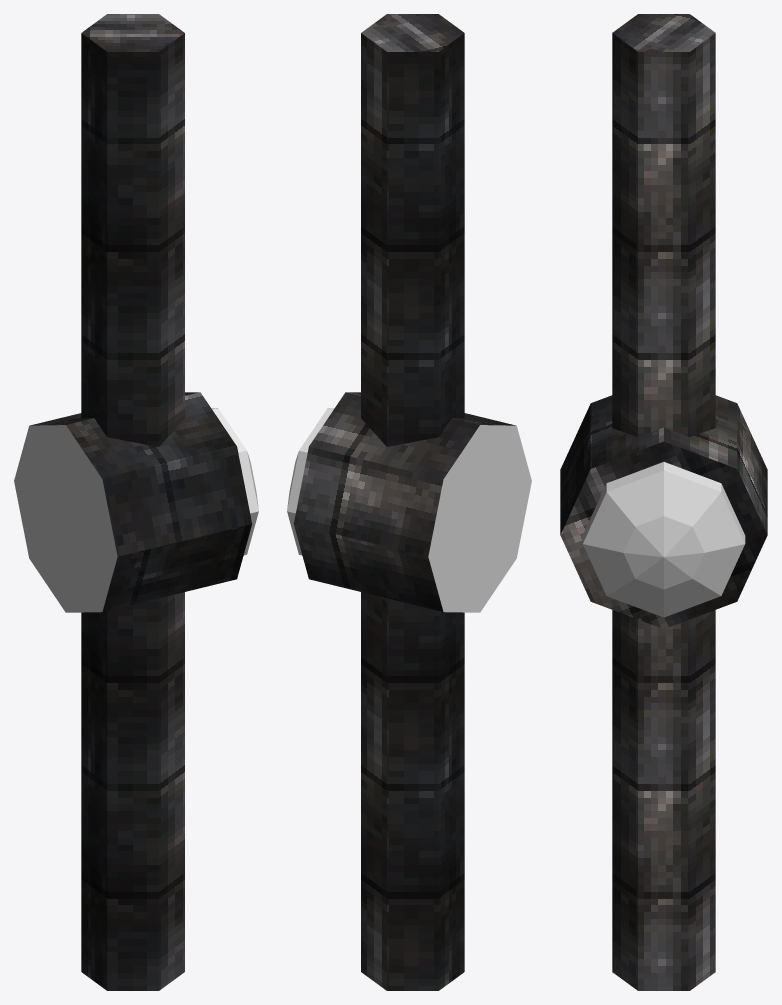
Rendered from pipe_with_thing.fbx.
3 renders of one model, left to right at view 1: azimuth 30°, elevation 25°; view 2: azimuth 150°, elevation 25°; view 3: azimuth 270°, elevation 25°, orthographic.
Parts seen in each view (by area): view 1: Pipe, Cylinder; view 2: Pipe, Cylinder; view 3: Pipe, Cylinder.
Boxes of the visible parts, left/top/right/bottom form: Pipe: left=81, top=14, right=184, bottom=990; Cylinder: left=14, top=392, right=258, bottom=612; Pipe: left=361, top=14, right=464, bottom=990; Cylinder: left=287, top=392, right=531, bottom=612; Pipe: left=612, top=14, right=715, bottom=990; Cylinder: left=560, top=395, right=767, bottom=628.
Bounding box in the file's own units: 1 × 5 × 1.
